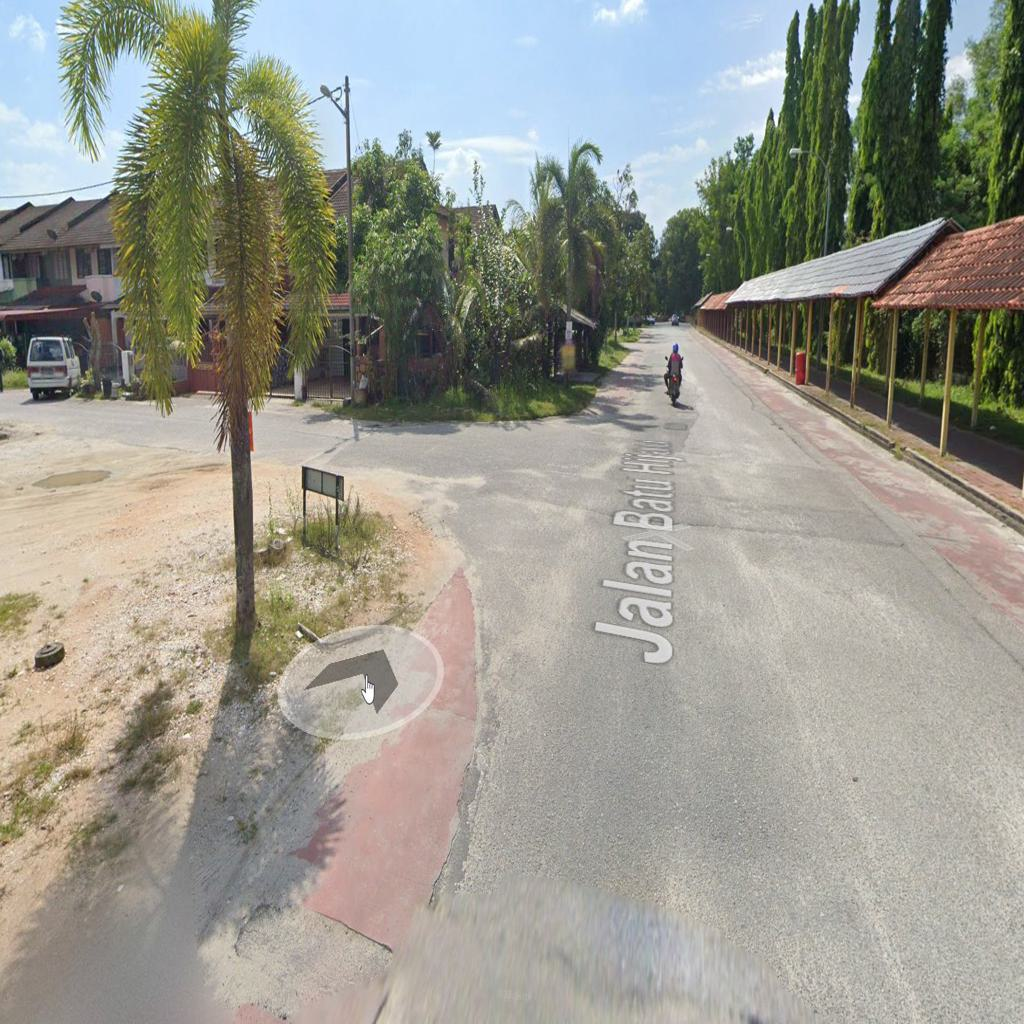Junction: (255, 373, 642, 740)
